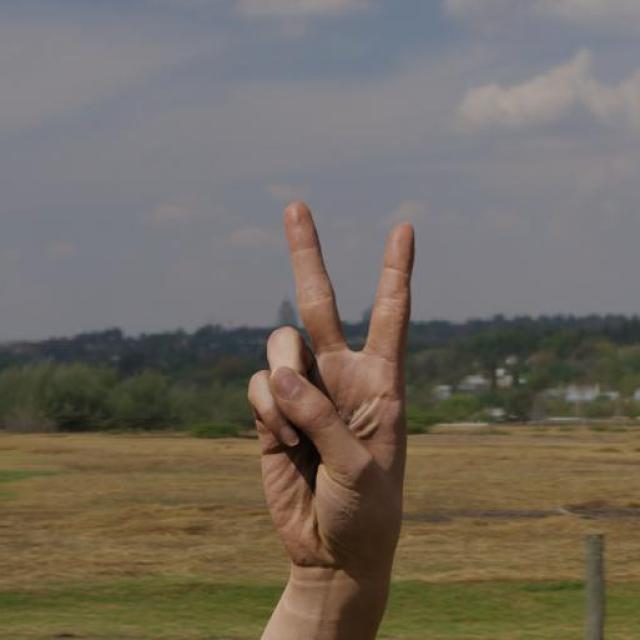V: (243, 202, 421, 602)
